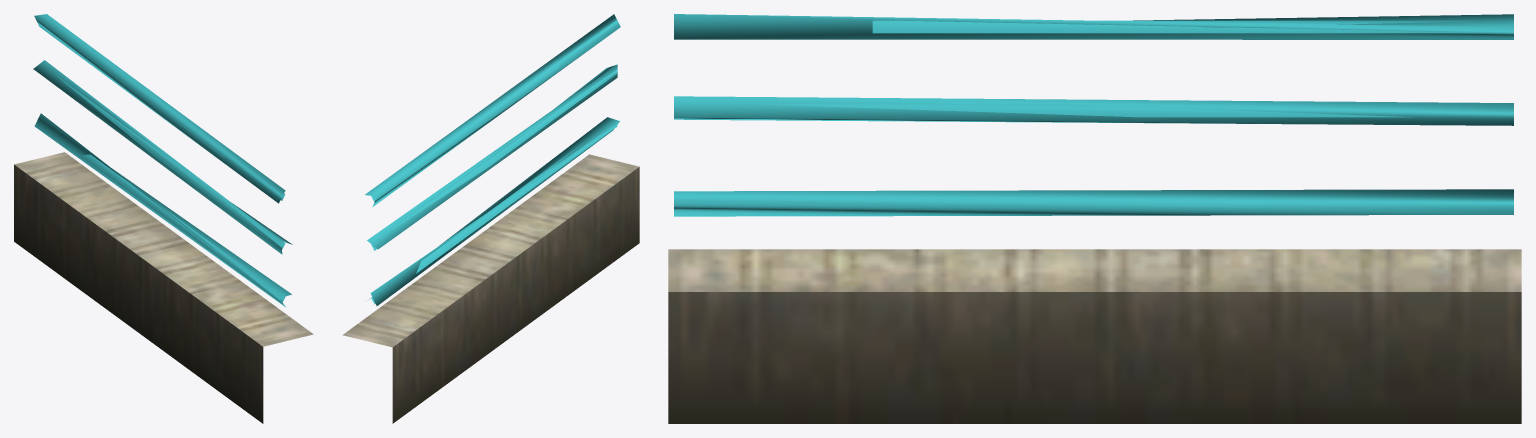
File: wall.glb
The picture shows the model from 3 angles, left to right: view 1: azimuth 30°, elevation 25°; view 2: azimuth 150°, elevation 25°; view 3: azimuth 270°, elevation 25°; orthographic projection. The views are drawn at different scales.
Parts seen in each view (by area): view 1: BOX01, HOUSECOLOR05, HOUSECOLOR04, HOUSECOLOR03, HOUSECOLOR02; view 2: BOX01, HOUSECOLOR05, HOUSECOLOR04, HOUSECOLOR03, HOUSECOLOR02; view 3: BOX01, HOUSECOLOR02, HOUSECOLOR03, HOUSECOLOR04, HOUSECOLOR05.
Part boxes in pixels (x1,y1,x2,y2): BOX01: (14, 152, 313, 423); HOUSECOLOR05: (44, 18, 285, 303); HOUSECOLOR04: (34, 14, 285, 203); HOUSECOLOR03: (33, 60, 292, 254); HOUSECOLOR02: (34, 113, 291, 307); BOX01: (342, 154, 639, 423); HOUSECOLOR05: (371, 60, 617, 304); HOUSECOLOR04: (365, 14, 620, 207); HOUSECOLOR03: (367, 64, 617, 249); HOUSECOLOR02: (369, 117, 619, 305); BOX01: (668, 249, 1521, 423); HOUSECOLOR02: (674, 189, 1513, 216); HOUSECOLOR03: (674, 96, 1513, 125); HOUSECOLOR04: (674, 14, 1513, 39); HOUSECOLOR05: (743, 20, 1502, 206).
Size of the model in its own units: 2.37 by 10.11 by 20.16.
5 materials, 1 textured.
